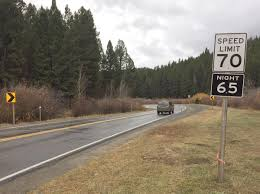speedLimit70: (215, 34, 247, 73)
